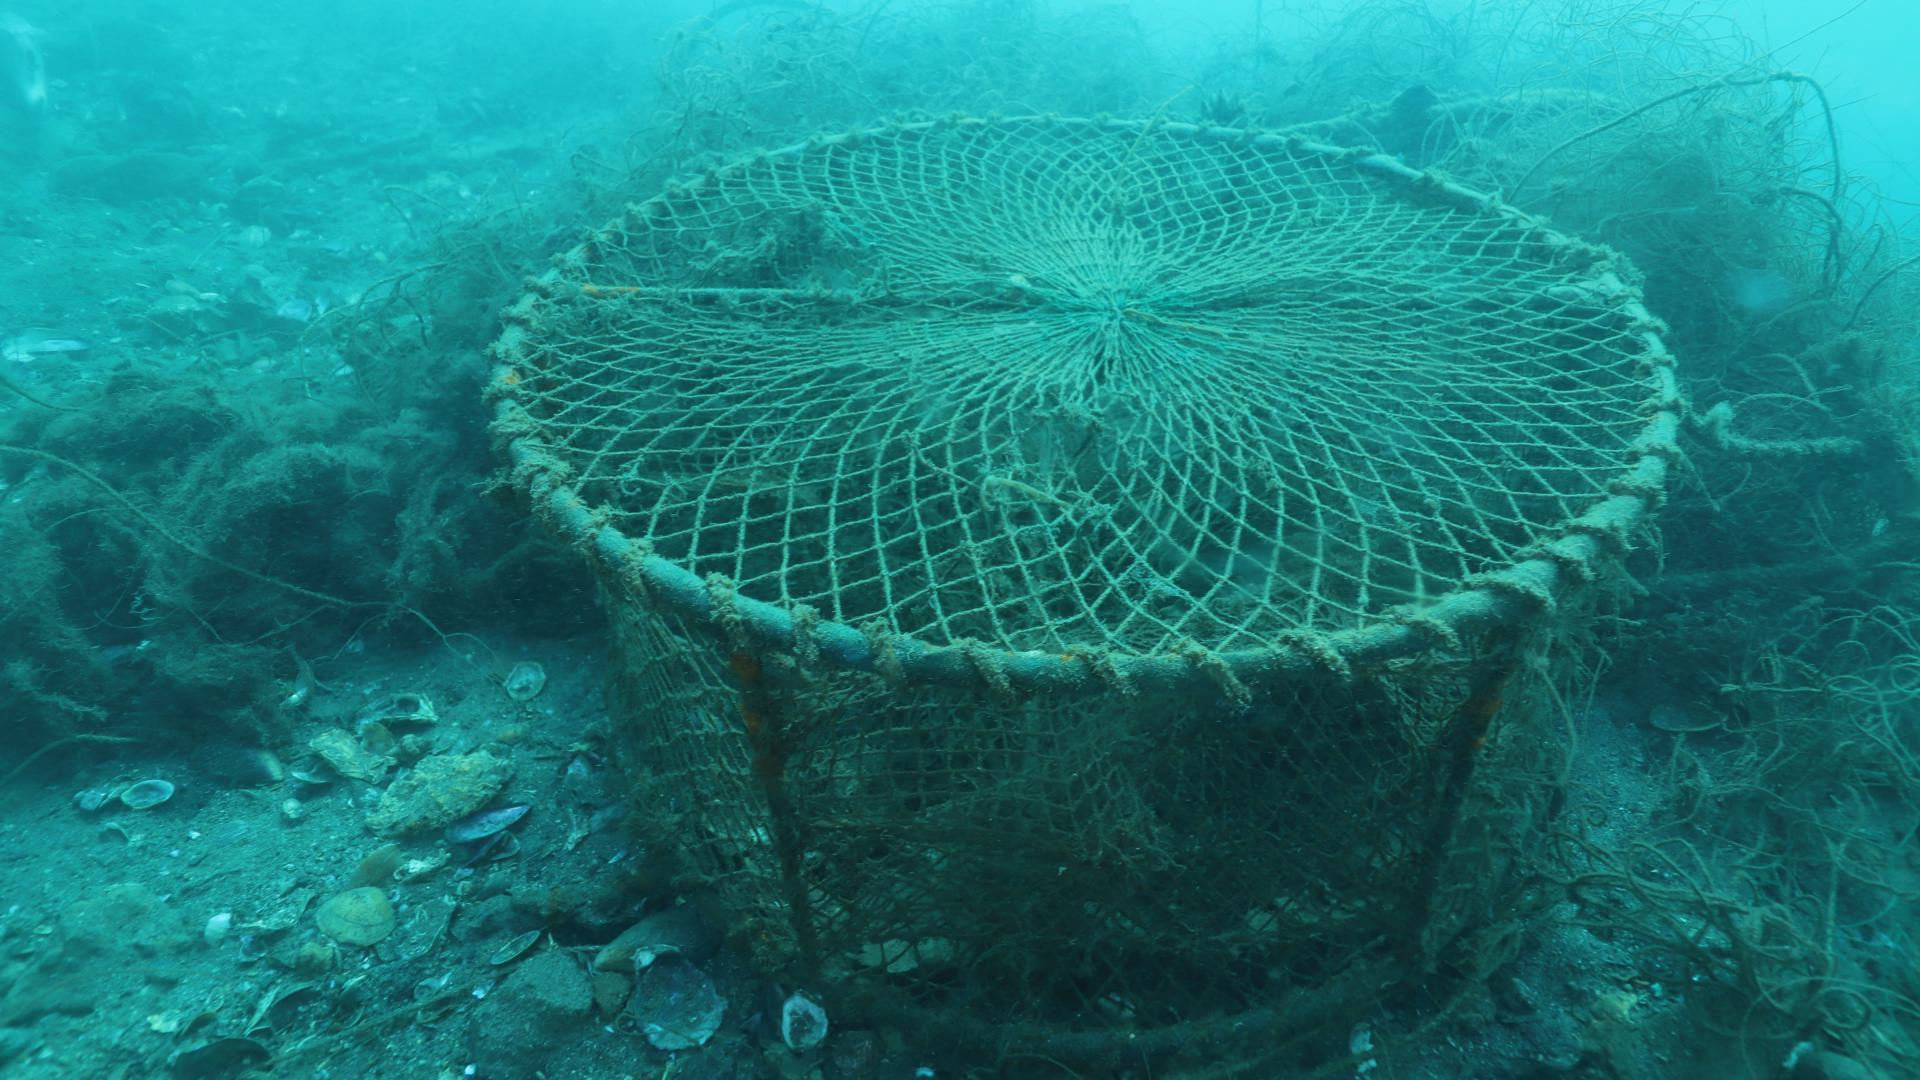circular fish trap: (483, 112, 1672, 1080)
other objects: (34, 357, 526, 716)
